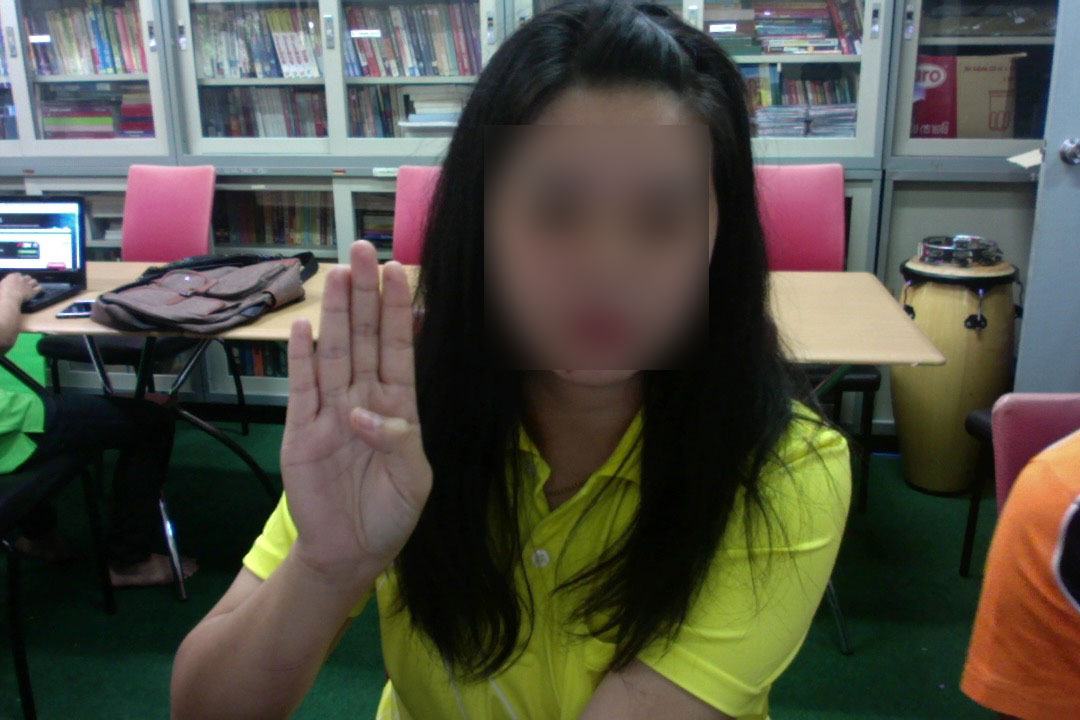bor: (272, 232, 441, 585)
